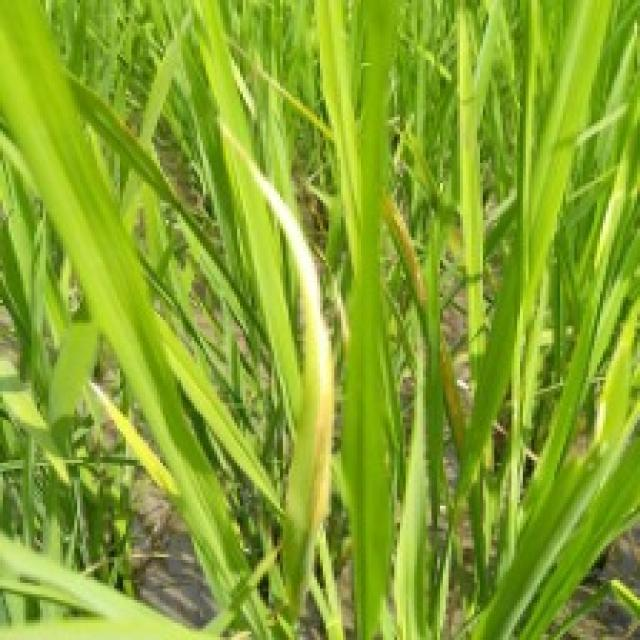Rice___Bacterial_Leaf_Blight: (220, 127, 340, 637)
